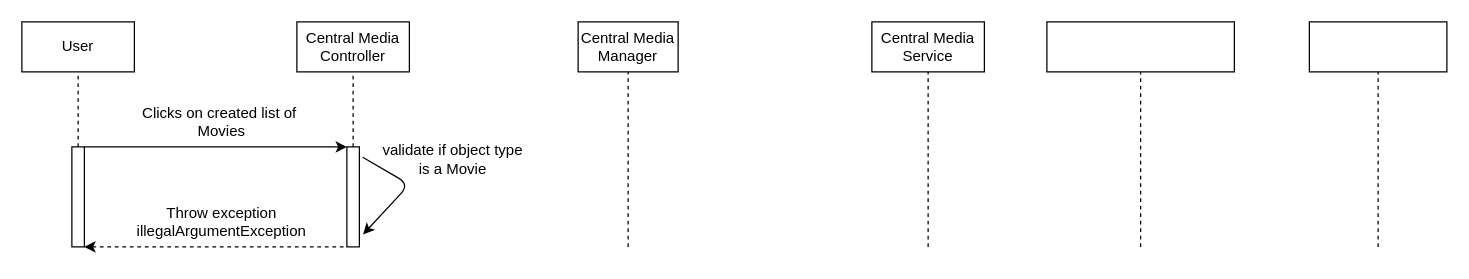
The diagram is 1469 pixels wide and 279 high, and some of its shapes have lost their labels. The shapes that lost their labels are listed below. From the top down, each one's box as (x1, y1, x2, y2) in pixels, then its label:
(1046, 21, 1234, 72): SQL Data Access Object
(1308, 21, 1447, 72): SQL Server
